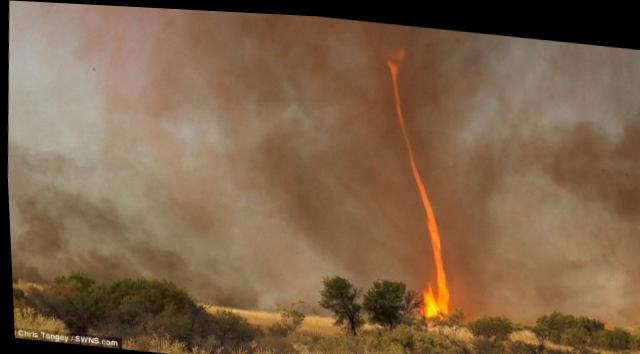fire: (337, 23, 499, 338)
